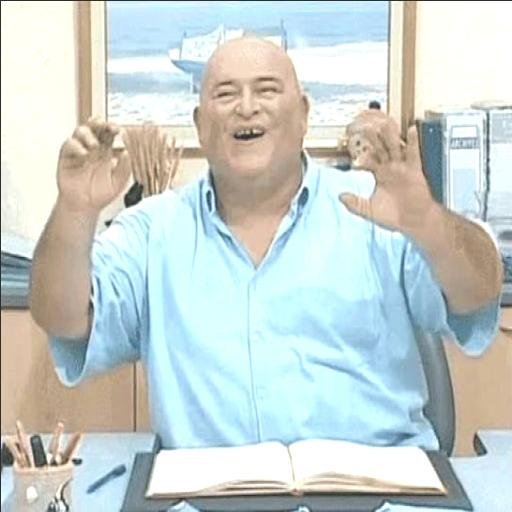sboui: (194, 38, 309, 202)
